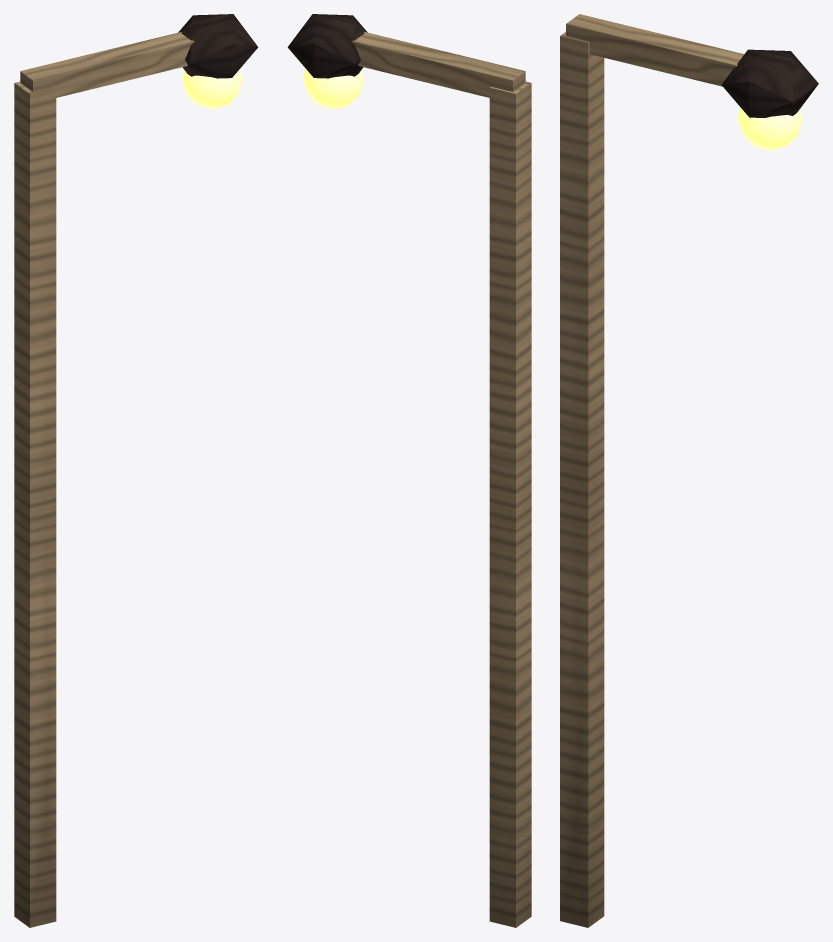
The model's file is street_lamp.glb.
3 renders of one model, left to right at view 1: azimuth 30°, elevation 25°; view 2: azimuth 150°, elevation 25°; view 3: azimuth 330°, elevation 25°, orthographic. The views are drawn at different scales.
Parts seen in each view (by area): view 1: street_lamp; view 2: street_lamp; view 3: street_lamp.
Part boxes in pixels (x1=…): street_lamp: x1=14, y1=14, x2=258, y2=927; street_lamp: x1=287, y1=14, x2=531, y2=927; street_lamp: x1=560, y1=14, x2=818, y2=927.
Size of the model in its own units: 2.53 by 9.25 by 0.7656.
3 materials, 2 textured.
